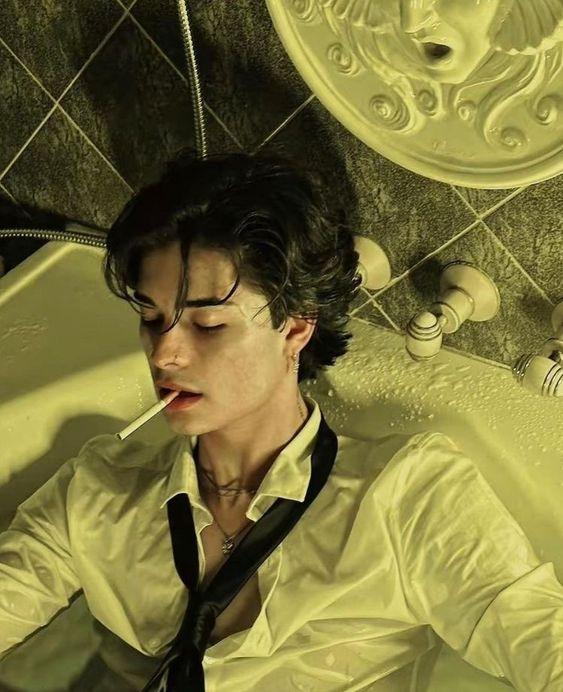cigarette: (114, 390, 183, 440)
